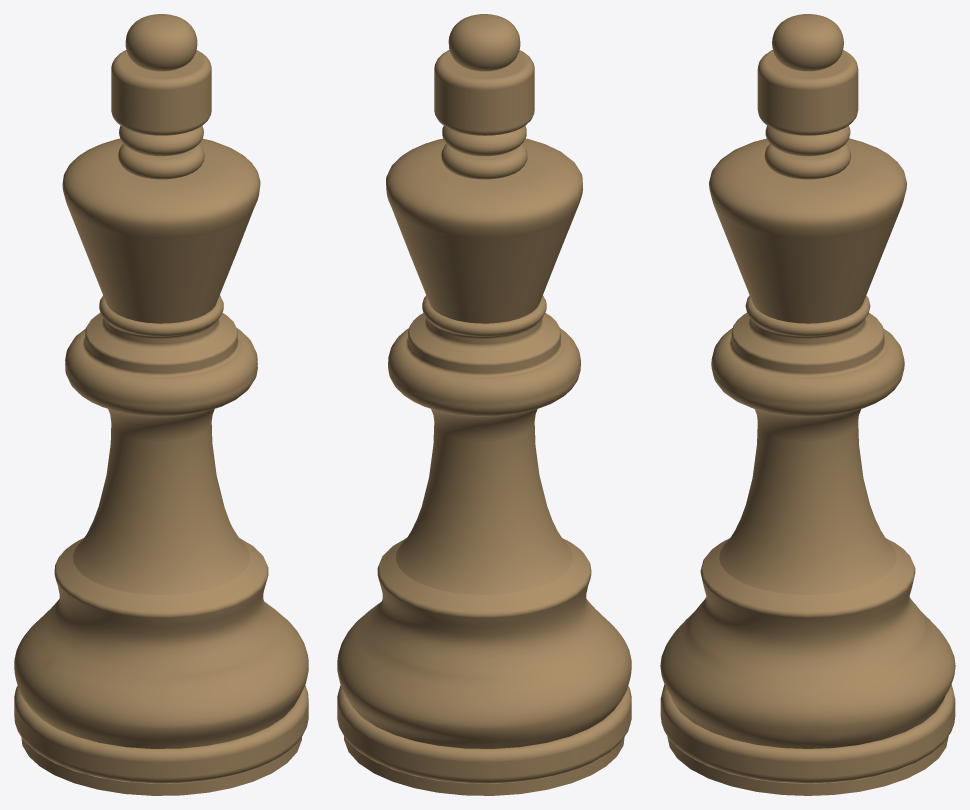
File: KingGold.fbx
The picture shows the model from 3 angles, left to right: view 1: azimuth 30°, elevation 25°; view 2: azimuth 150°, elevation 25°; view 3: azimuth 270°, elevation 25°; orthographic projection.
Parts seen in each view (by area): view 1: Король (1); view 2: Король (1); view 3: Король (1).
Part boxes in pixels (box(x1,y1,x2,y2)): Король (1): box(14, 14, 308, 795); Король (1): box(337, 14, 631, 795); Король (1): box(660, 14, 955, 795).
Size of the model in its own units: 2.2 by 5.9 by 2.2.
